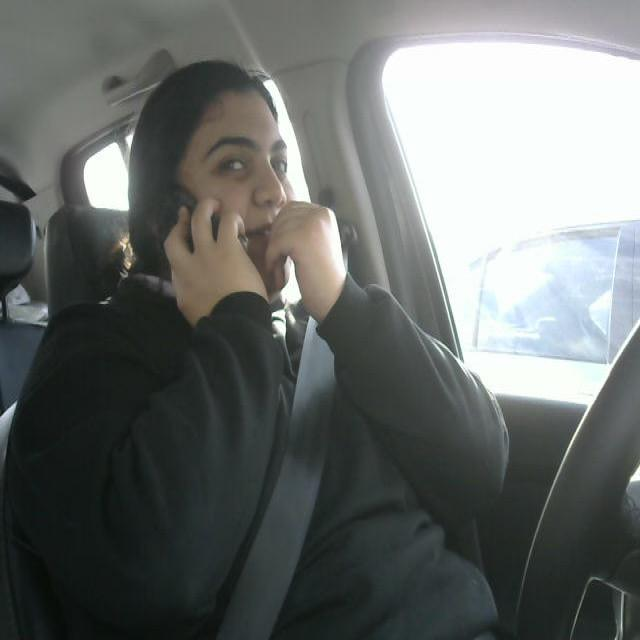mobile use: (143, 186, 257, 300)
